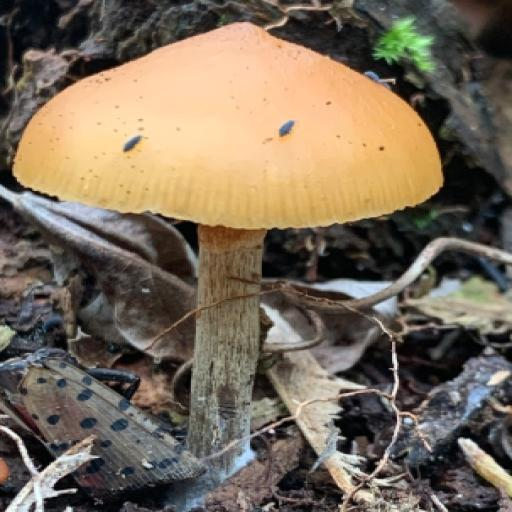mushroom: (13, 21, 443, 357)
